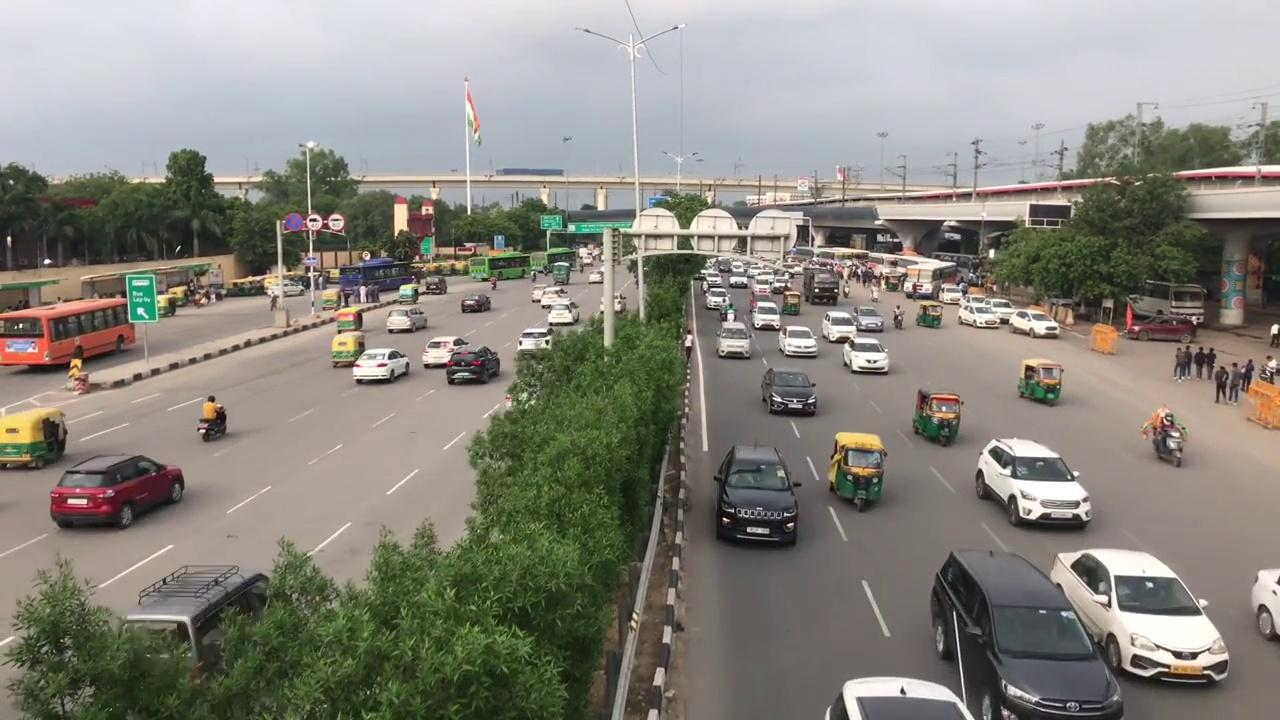Auto: (0, 403, 68, 471), (829, 430, 886, 510), (914, 387, 962, 447), (1019, 358, 1064, 408), (330, 328, 368, 368), (916, 299, 944, 330)
Bike: (1148, 404, 1187, 467)
Car: (932, 549, 1120, 719), (1054, 544, 1232, 690), (976, 436, 1093, 528), (714, 442, 800, 546), (762, 362, 819, 416), (446, 340, 500, 386), (354, 343, 411, 386), (842, 335, 890, 376), (422, 332, 469, 368), (716, 321, 754, 360), (779, 325, 818, 358)
Truck: (802, 268, 841, 308)
